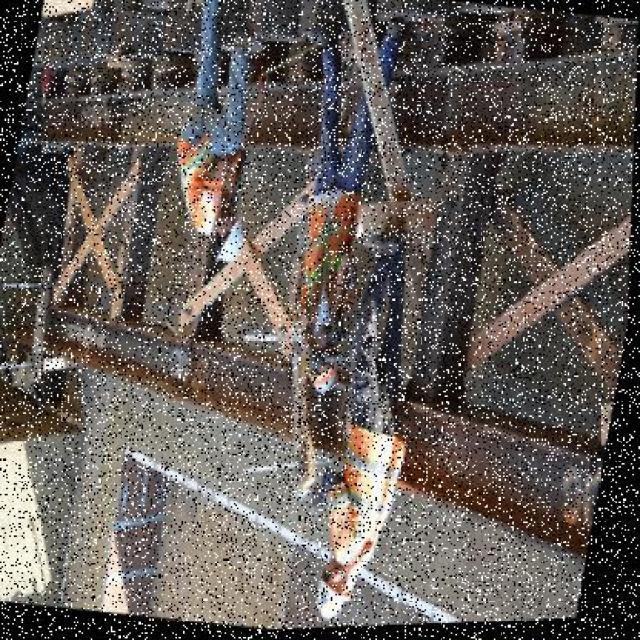helmet: (206, 206, 252, 274), (308, 574, 356, 624), (308, 359, 343, 400)
vest: (313, 406, 410, 576), (291, 192, 366, 342), (170, 136, 231, 233)
